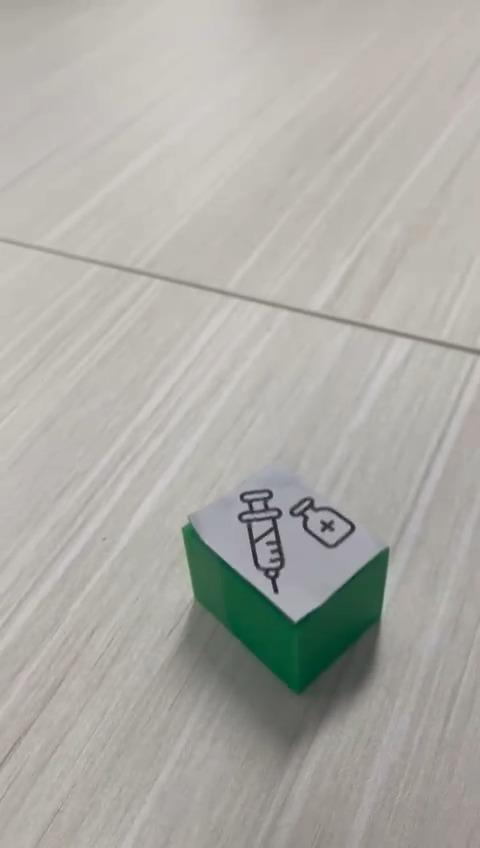antiseptic cream: (180, 462, 391, 694)
